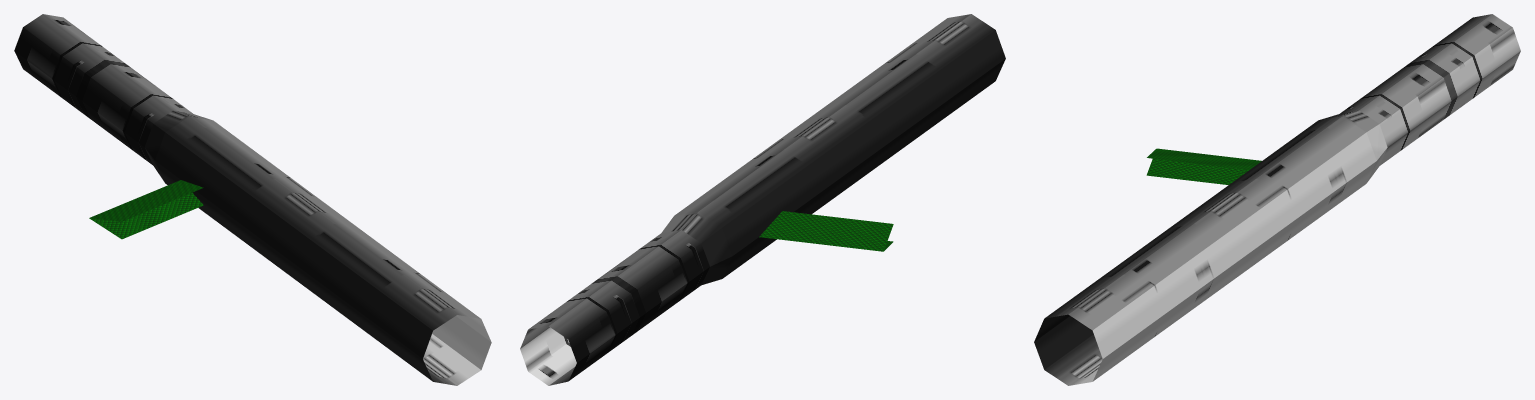
The model's file is primary_057.glb.
The picture shows the model from 3 angles, left to right: view 1: azimuth 30°, elevation 25°; view 2: azimuth 150°, elevation 25°; view 3: azimuth 330°, elevation 25°; orthographic projection.
Visible parts, largest first — view 1: Object; view 2: Object; view 3: Object.
Part boxes in pixels (x1,y1,x2,y2): Object: (14,14,491,385); Object: (520,14,1005,385); Object: (1034,14,1520,385).
Size of the model in its own units: 0.4114 by 0.1578 by 1.68.
11 materials, 11 textured.
